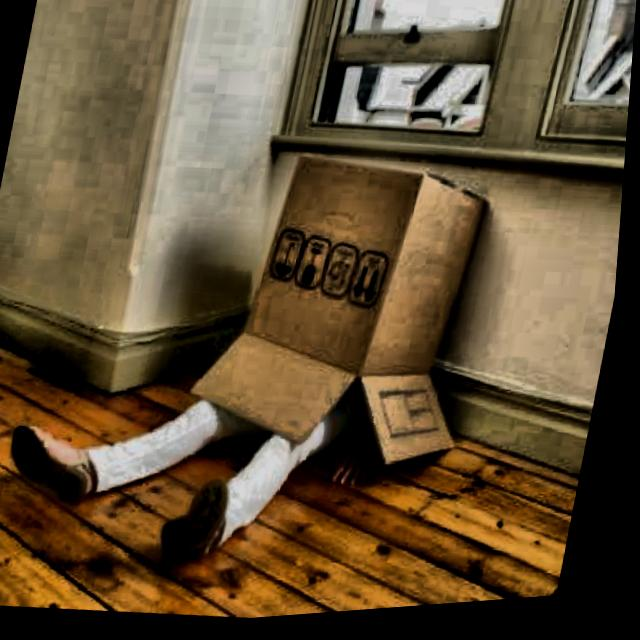Cardbox: (177, 124, 515, 492)
